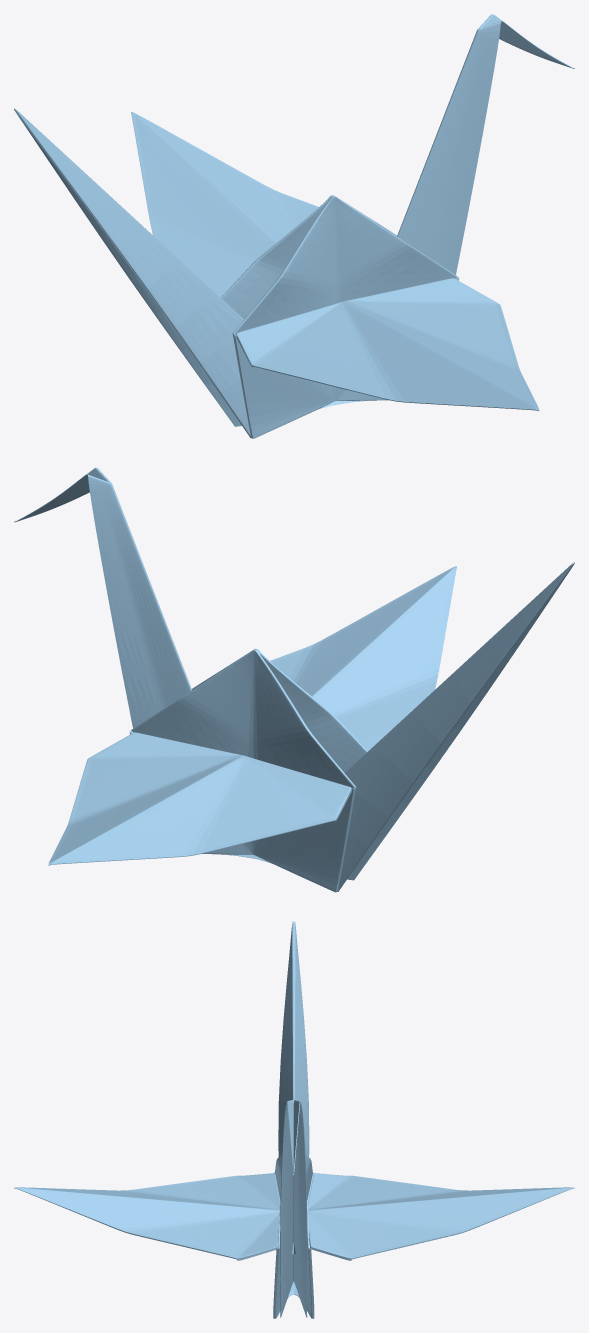
File: Toy Origami Crane Decor N020120.obj
3 views of the same model, one above another, from view 1: azimuth 30°, elevation 25°; view 2: azimuth 150°, elevation 25°; view 3: azimuth 270°, elevation 25° (orthographic). The views are drawn at different scales.
Visible parts, largest first — view 1: Object001; view 2: Object001; view 3: Object001.
Part boxes in pixels (x1=…): Object001: x1=14, y1=14, x2=574, y2=438; Object001: x1=14, y1=467, x2=574, y2=892; Object001: x1=14, y1=921, x2=574, y2=1318.
Bounding box in the file's own units: 137 × 88.66 × 173.
